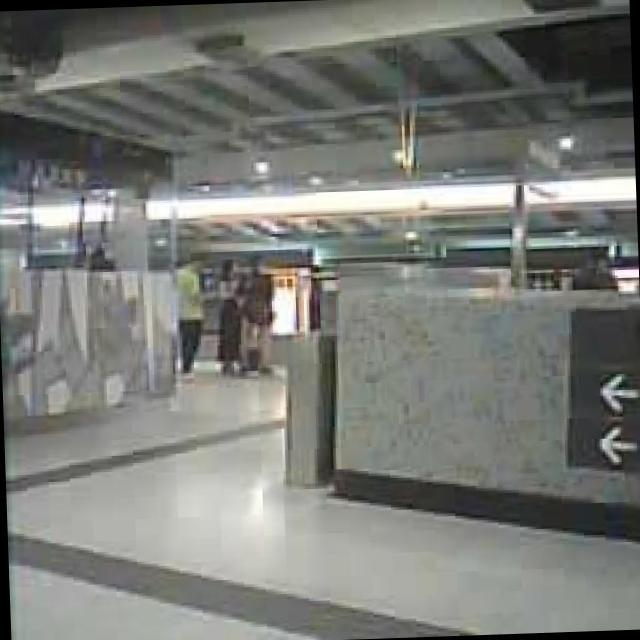person: (242, 258, 286, 378), (171, 256, 210, 377), (213, 258, 247, 376)
